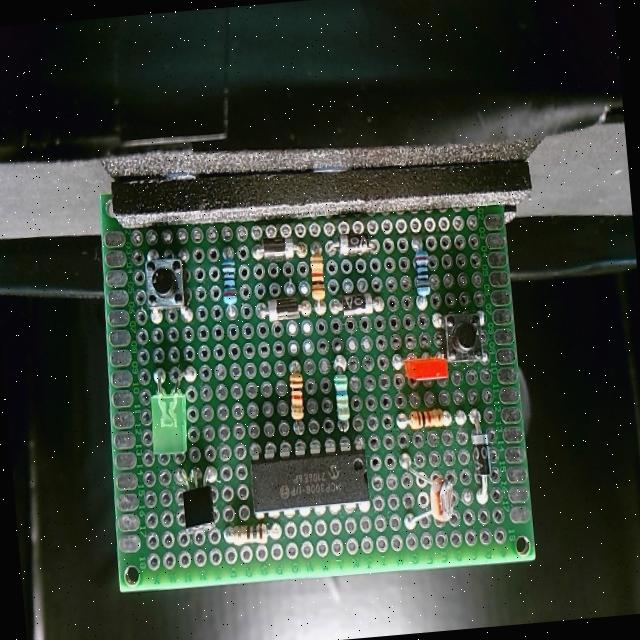IC: (247, 443, 372, 518)
cds: (422, 471, 459, 524)
diode: (468, 428, 494, 484), (264, 292, 306, 324), (340, 290, 378, 322), (257, 233, 300, 260), (335, 232, 371, 258)
led: (147, 386, 191, 459), (399, 348, 449, 384)
resistor: (328, 370, 356, 425), (410, 245, 434, 302), (306, 252, 331, 304), (220, 252, 242, 311), (282, 368, 306, 422), (228, 520, 268, 550), (406, 404, 448, 432)
switch: (140, 252, 192, 318), (439, 312, 488, 366)
transistor: (178, 478, 218, 536)
